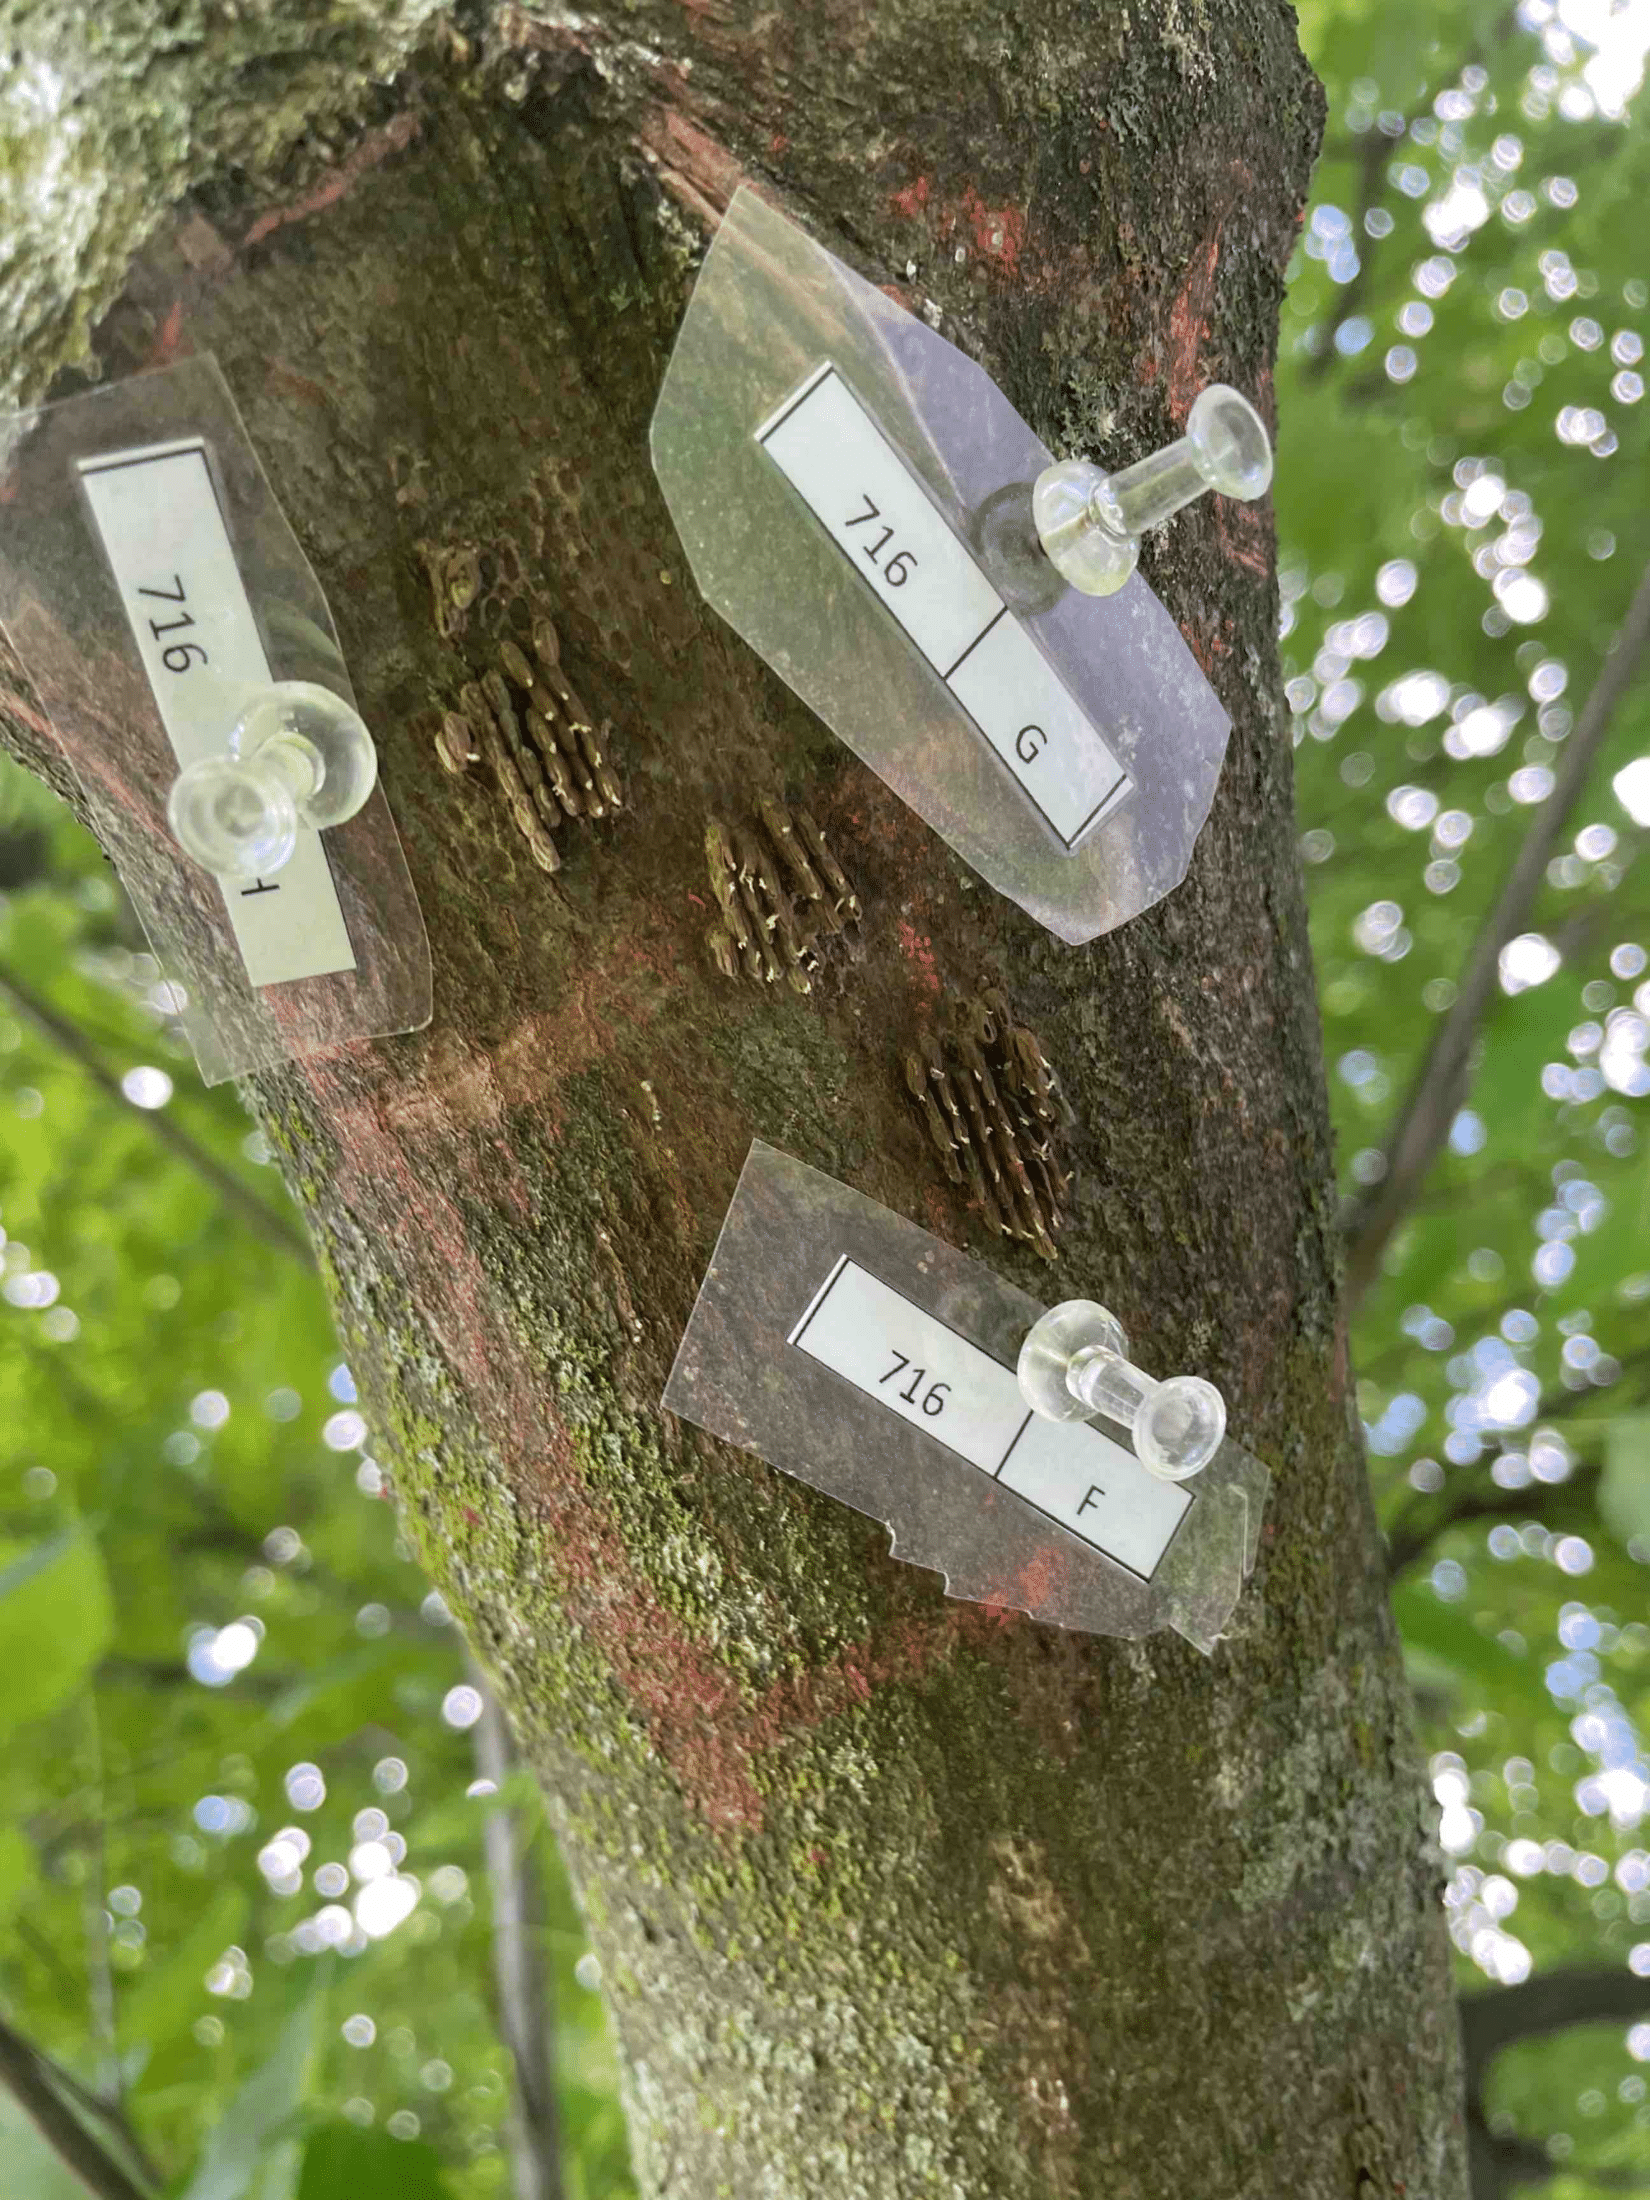egg masses: (901, 989, 1080, 1263), (438, 669, 614, 866), (693, 804, 867, 994), (411, 527, 504, 637)
